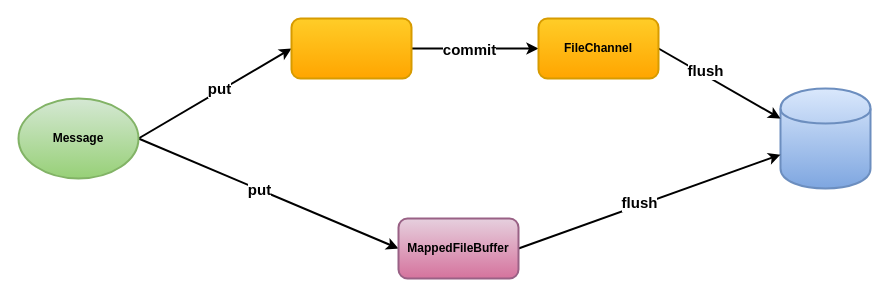
This 888x296 diagram has some shape labels left out. Here are the shapes that lost their labels. From the top down, the centre of each, then its label:
point 351,48: WriteBuffer
point 825,138: Disk
